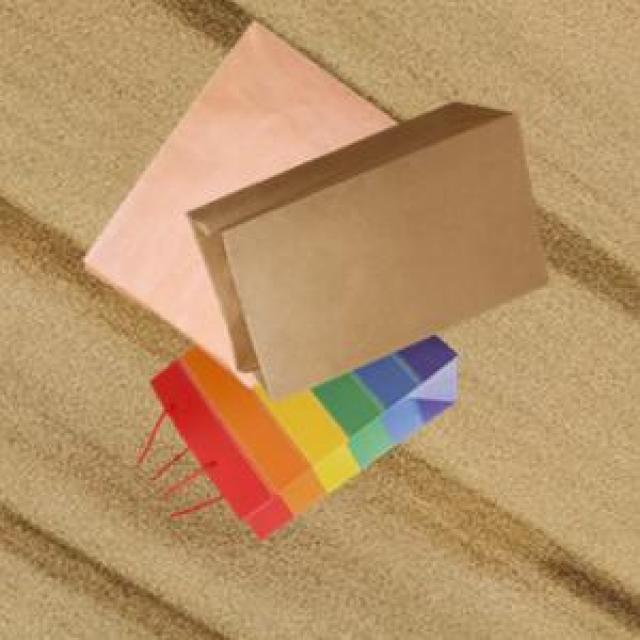PaperCardboard: (78, 19, 547, 548)
